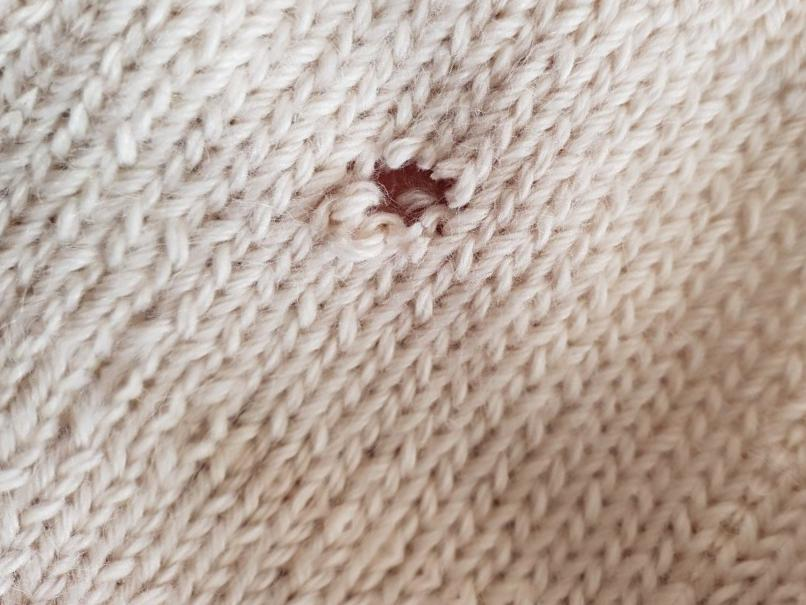hole: (361, 141, 471, 240)
